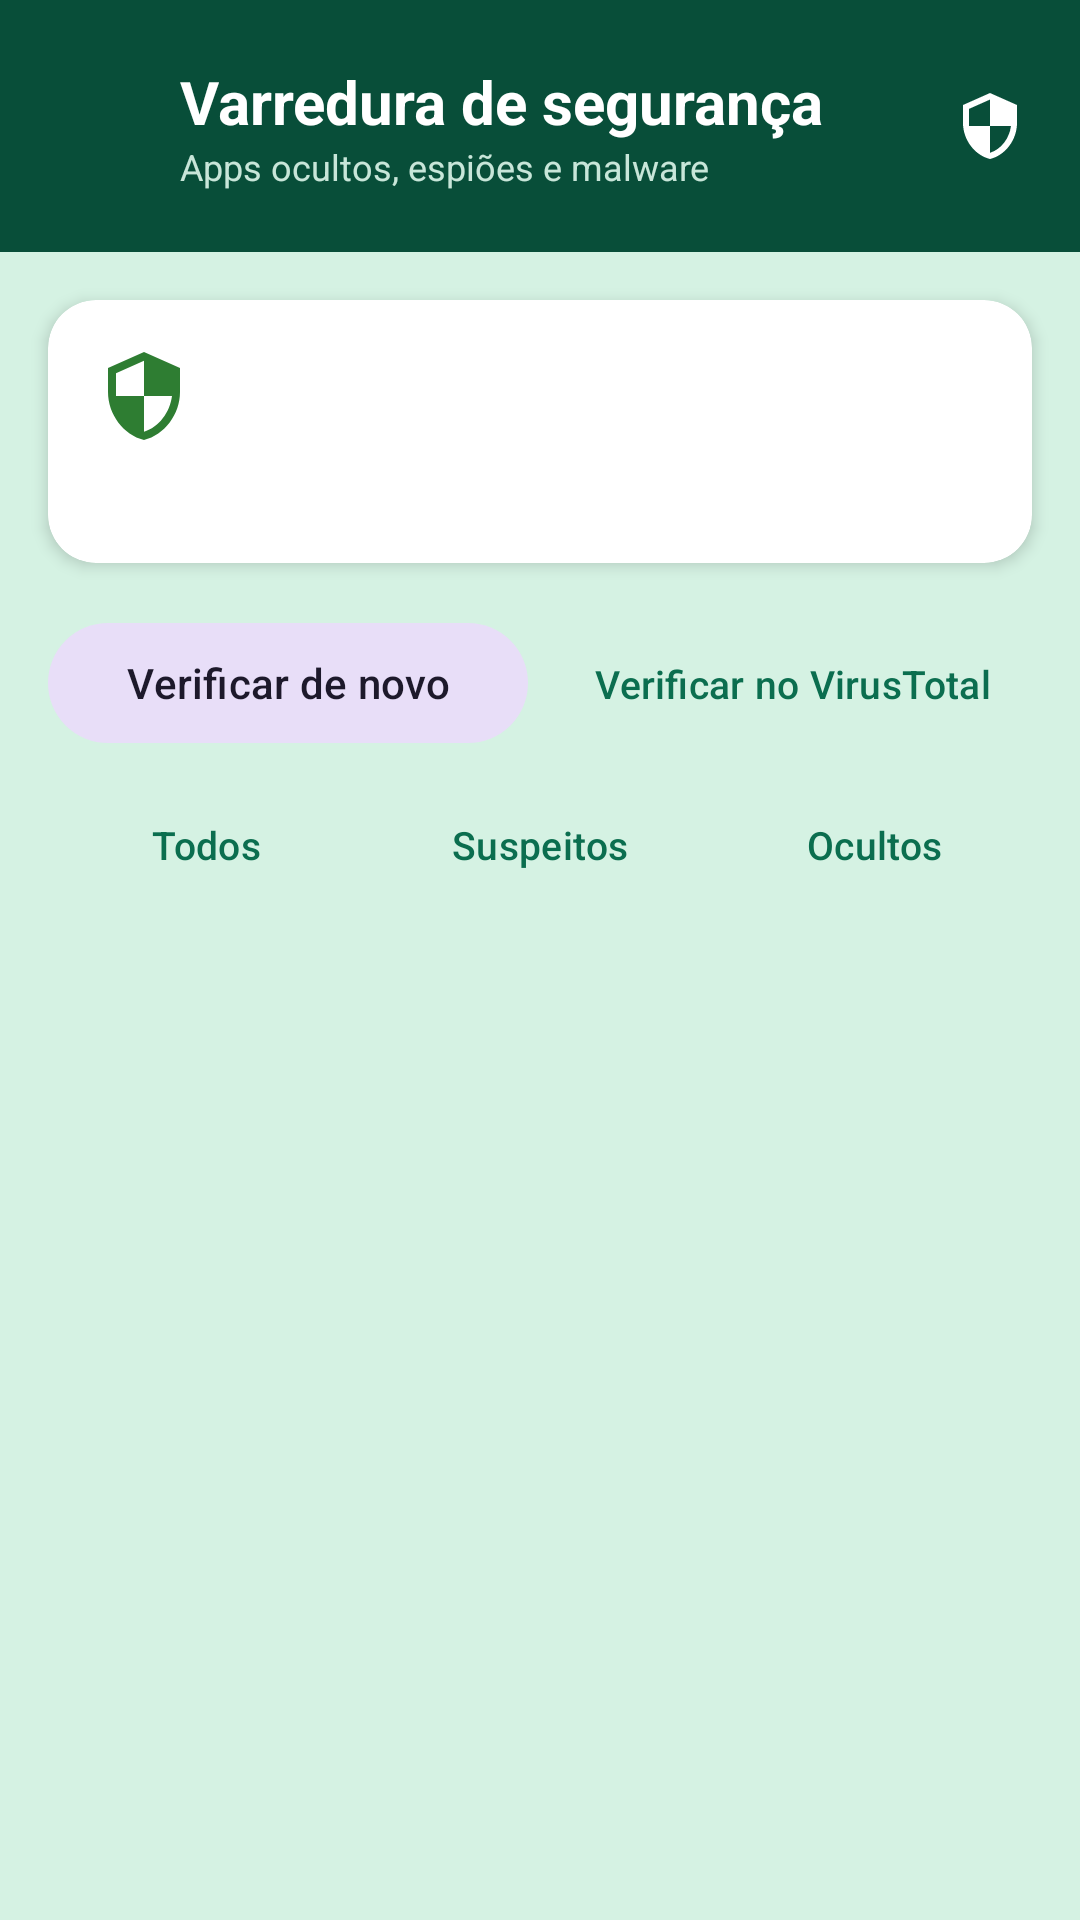

Icon bounding boxes for this 1080 x 1920 phone screenshot, format (x1,y1,x2,y2):
shield: (108,352,180,440)
